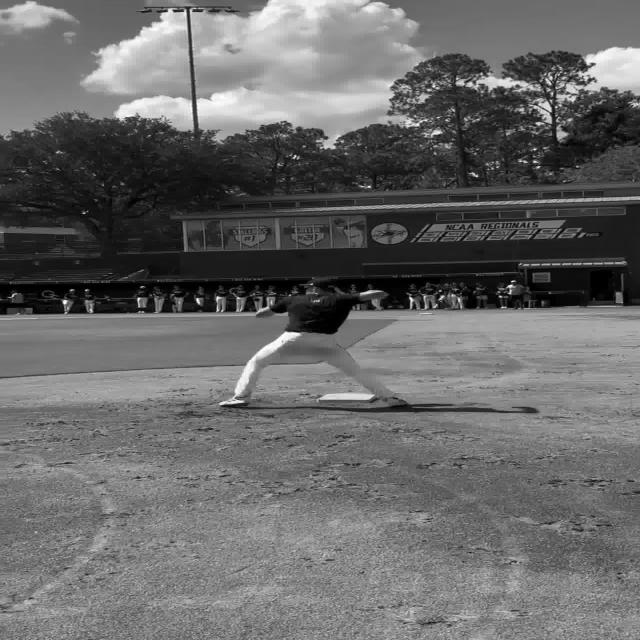base: (318, 392, 378, 404)
shoe: (218, 398, 253, 408), (382, 398, 409, 408)
